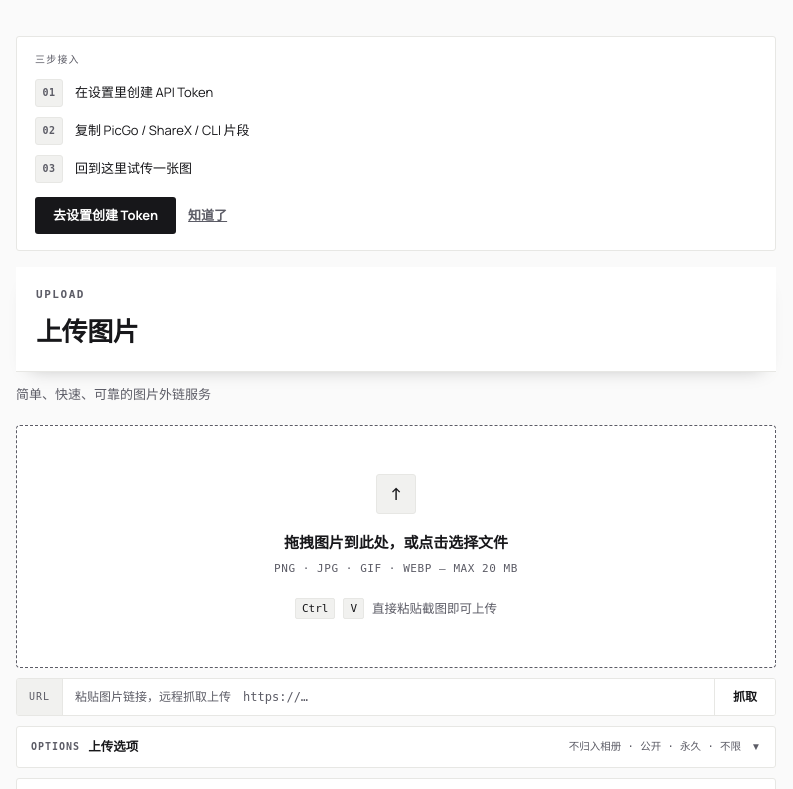
Test case: 广场开启且未开公开主页：公开可见性显示 opt-in 引导
Expected: the text "PNG · JPG · GIF · WEBP — MAX 20 MB" is shown, [274,562,518,575]
Click the button "OPTIONS 上传选项 不归入相册 · 公开 · 永久 · 不限 ▼": (56, 747) [17,727,775,766]
(page scrolled)
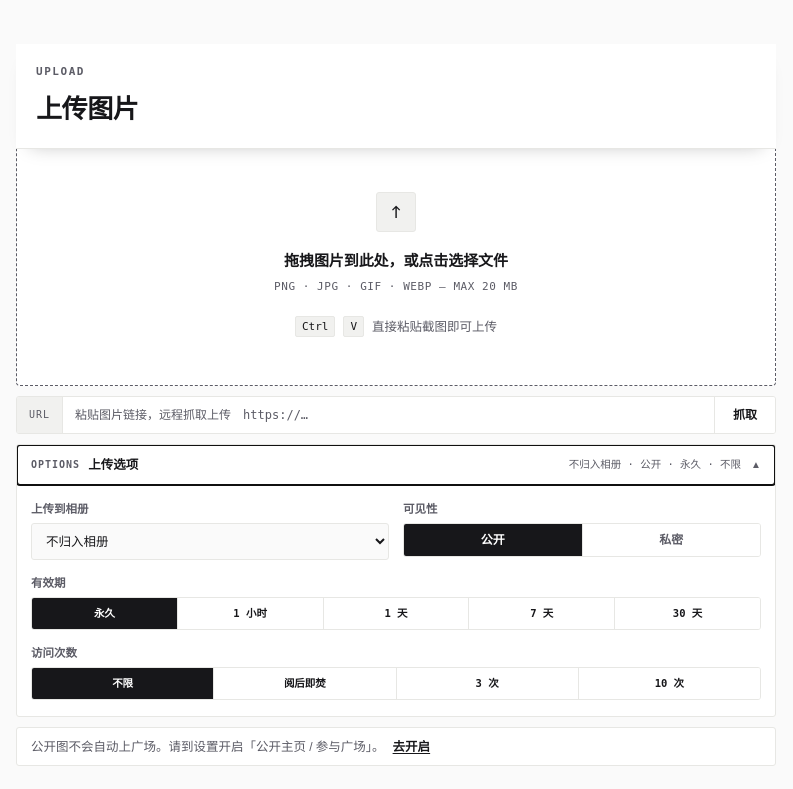
Click the button "私密": (671, 540) [582,524,760,556]
(page scrolled)
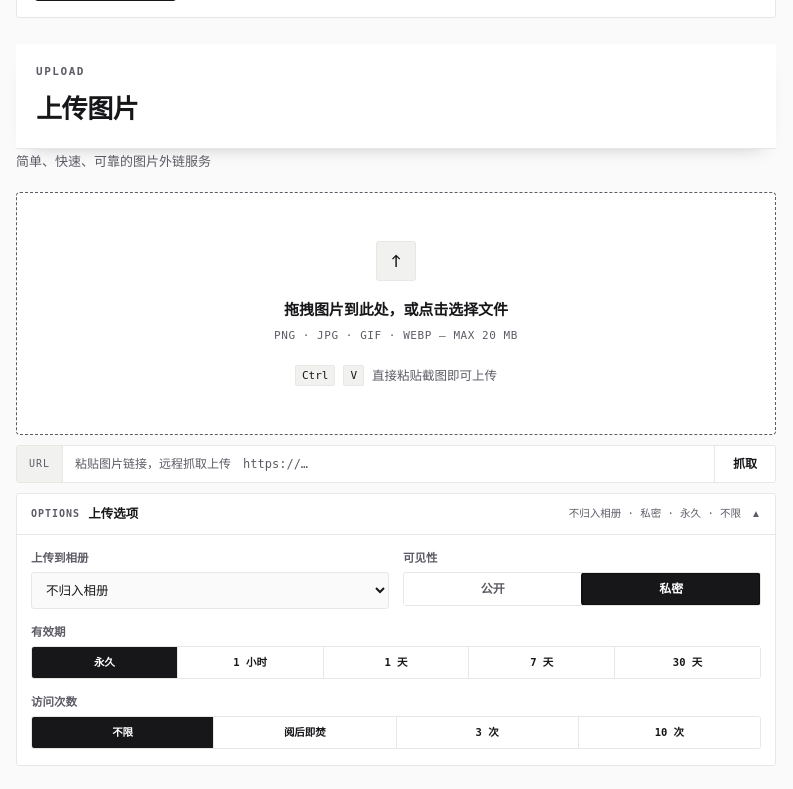
Expected: the element with test id "plaza-opt-in-hint" is gone
